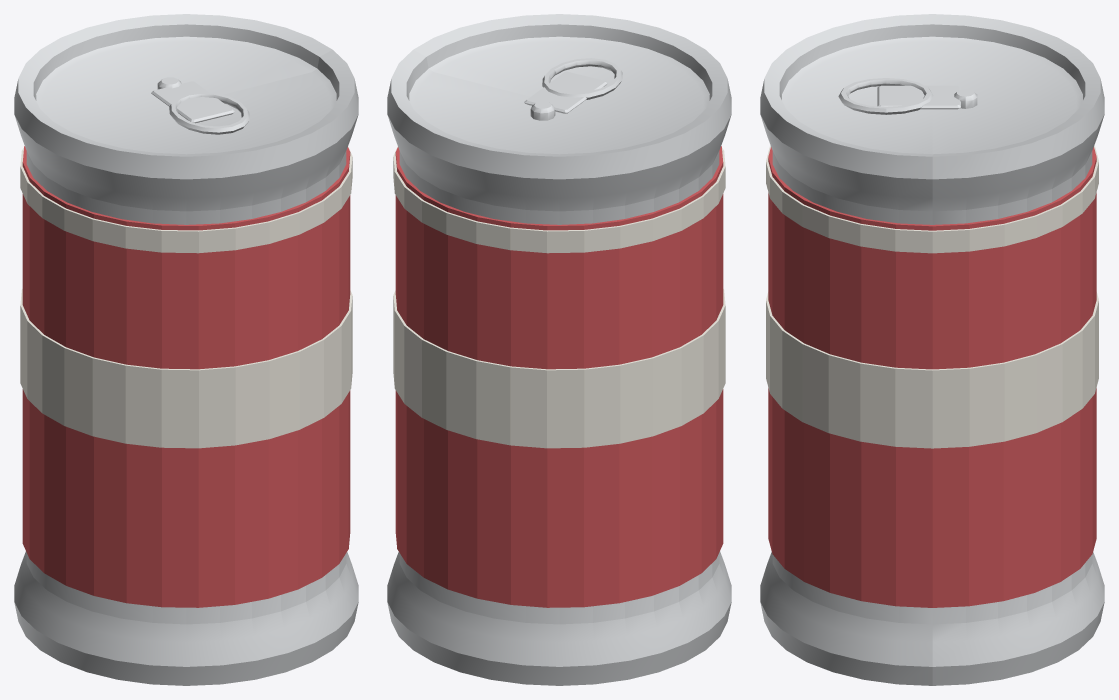
File: fresh-produce-and-groceries-soup-tin-59855b67__24431.glb
3 renders of one model, left to right at view 1: azimuth 30°, elevation 25°; view 2: azimuth 150°, elevation 25°; view 3: azimuth 270°, elevation 25°, orthographic.
Parts seen in each view (by area): view 1: soup-tin; view 2: soup-tin; view 3: soup-tin.
Boxes of the visible parts, bbox=[...] form: soup-tin: bbox=[14, 14, 358, 685]; soup-tin: bbox=[387, 14, 731, 685]; soup-tin: bbox=[760, 14, 1104, 685].
Bounding box in the file's own units: 0.0724 × 0.122 × 0.072.
